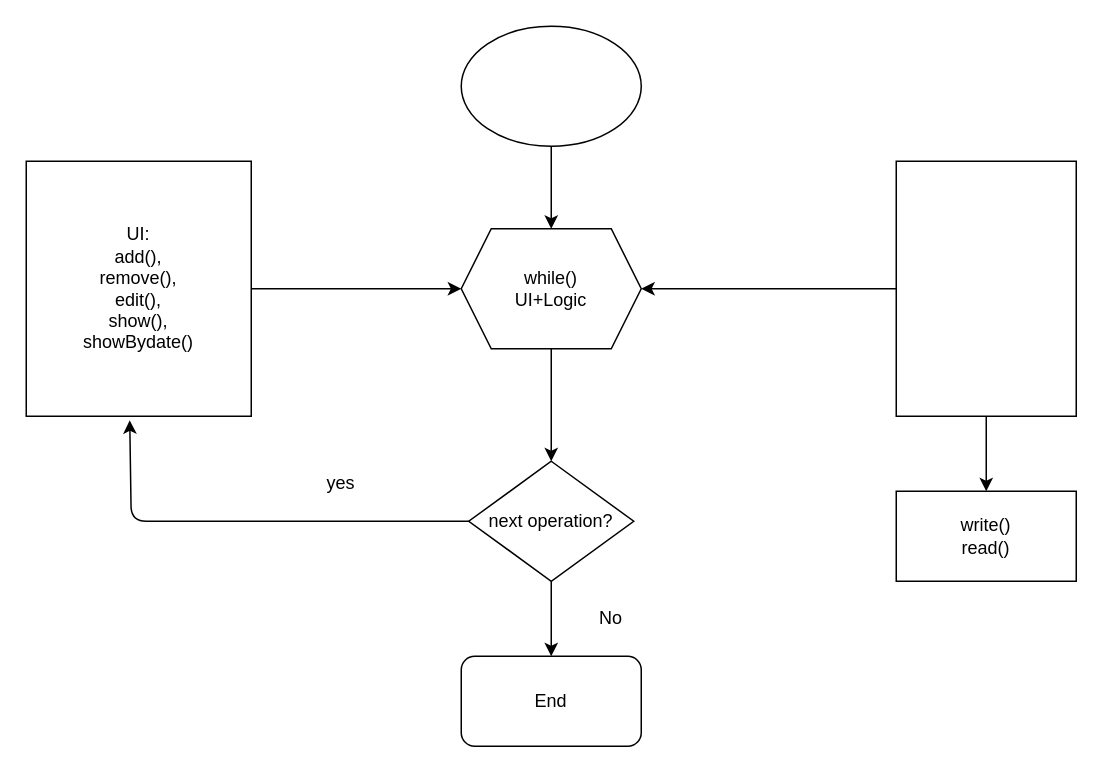
Some shapes in this 1103 by 773 pixel diagram are drawn without their labels. The centre of each missing label's shape, as x and y in pixels:
Logic: add(), remove(), edit(), show(), showBydate(): point 985,288
Start: point 550,85
